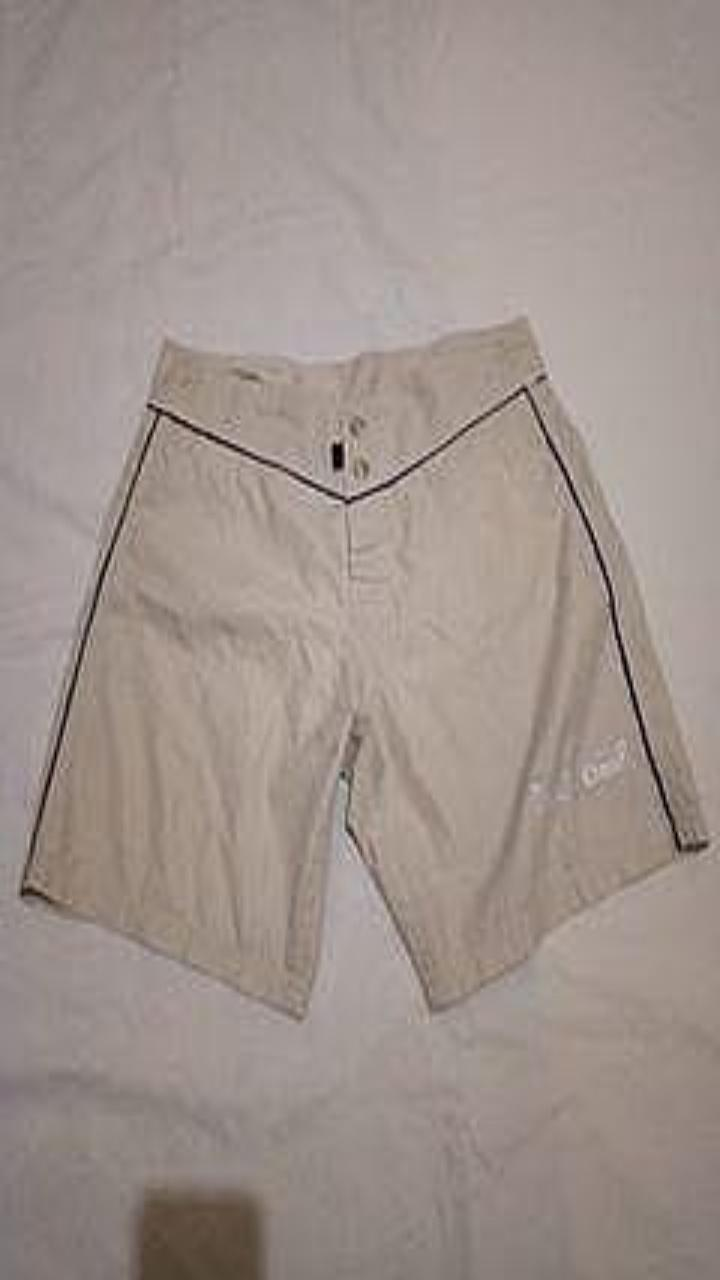Shorts: (20, 314, 709, 1017)
